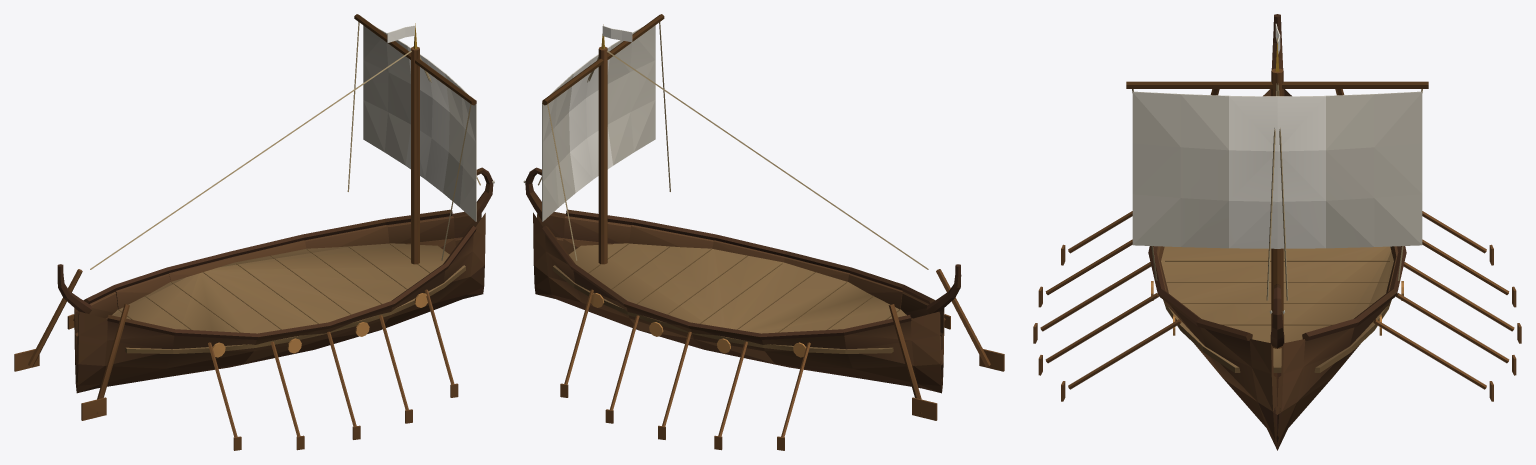
File: pk_ship.glb
The picture shows the model from 3 angles, left to right: view 1: azimuth 30°, elevation 25°; view 2: azimuth 150°, elevation 25°; view 3: azimuth 270°, elevation 25°; orthographic projection. The views are drawn at different scales.
Parts seen in each view (by area): view 1: base; view 2: base; view 3: base.
Boxes of the visible parts, x1=… form: base: x1=14, y1=14, x2=494, y2=450; base: x1=523, y1=14, x2=1004, y2=450; base: x1=1033, y1=14, x2=1521, y2=450.
Size of the model in its own units: 3.29 by 2.19 by 2.42.
